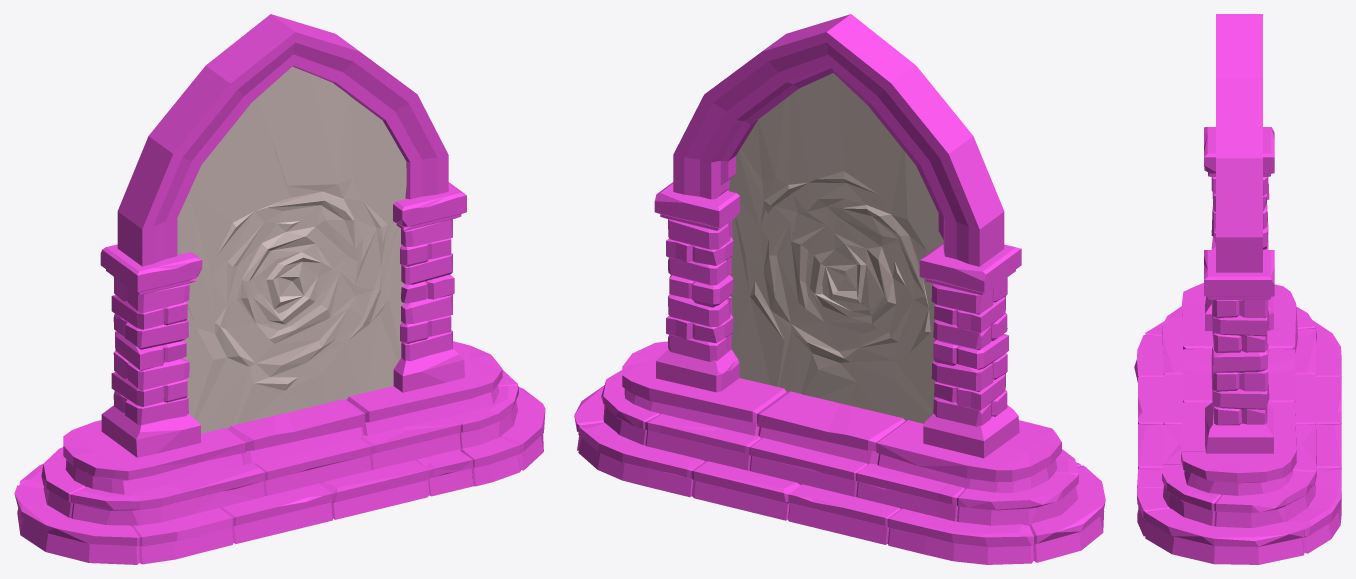
Rendered from SM_Portal_C_Fantasy.fbx.
3 views of the same model, side by side, from view 1: azimuth 30°, elevation 25°; view 2: azimuth 150°, elevation 25°; view 3: azimuth 270°, elevation 25° (orthographic). The views are drawn at different scales.
Parts seen in each view (by area): view 1: SM_Portal_C_Fantasy; view 2: SM_Portal_C_Fantasy; view 3: SM_Portal_C_Fantasy.
Part boxes in pixels (x1,y1,x2,y2): SM_Portal_C_Fantasy: [14, 14, 545, 564]; SM_Portal_C_Fantasy: [574, 14, 1105, 564]; SM_Portal_C_Fantasy: [1134, 14, 1341, 564].
Size of the model in its own units: 5.38 by 4.69 by 2.02.
